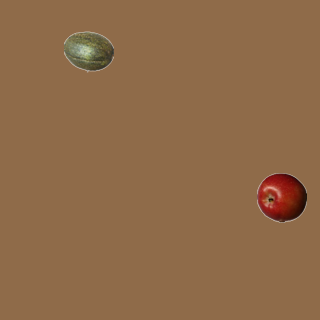Apple Braeburn: (256, 172, 306, 222)
Melon Piel de Sapo: (63, 26, 113, 76)
